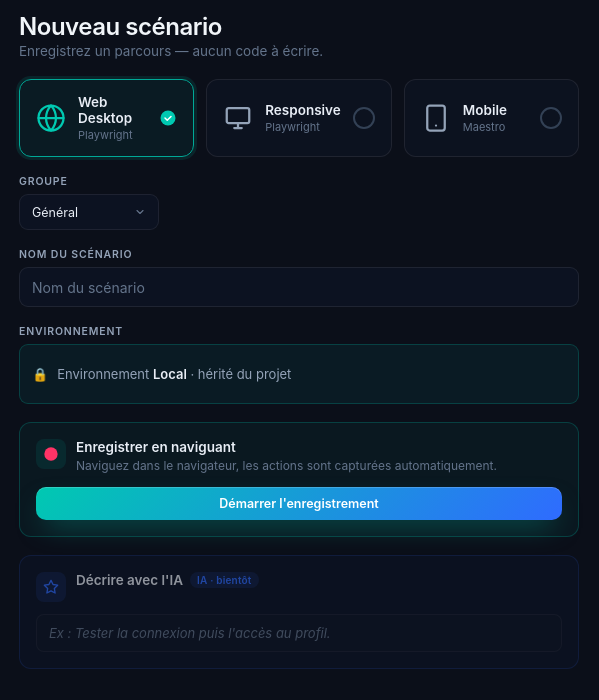
Test case: NewScenario › startRecording échoue → message d'erreur affiché, bouton réutilisable
This screenshot has width=599, height=700.
Type "Parcours" into the field with placeholder "Nom du scénario" at point(299, 287), box [19, 267, 579, 307]
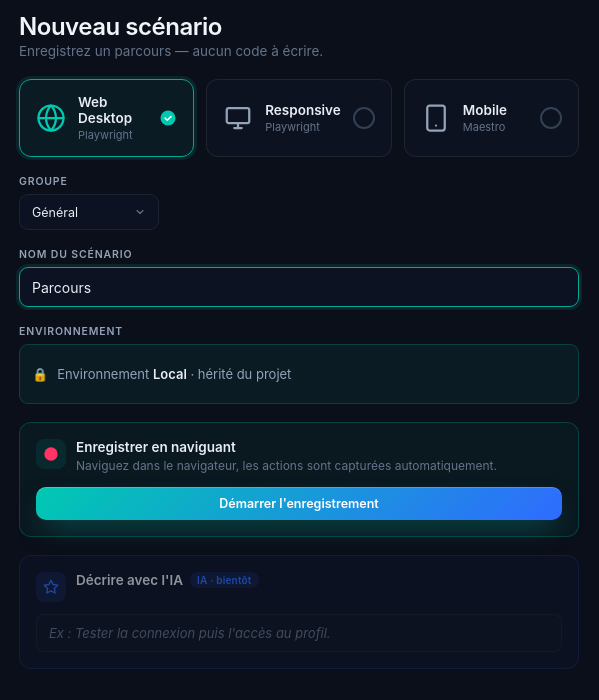
Click the button "Démarrer l'enregistrement" at point(299, 504), box [36, 487, 562, 520]
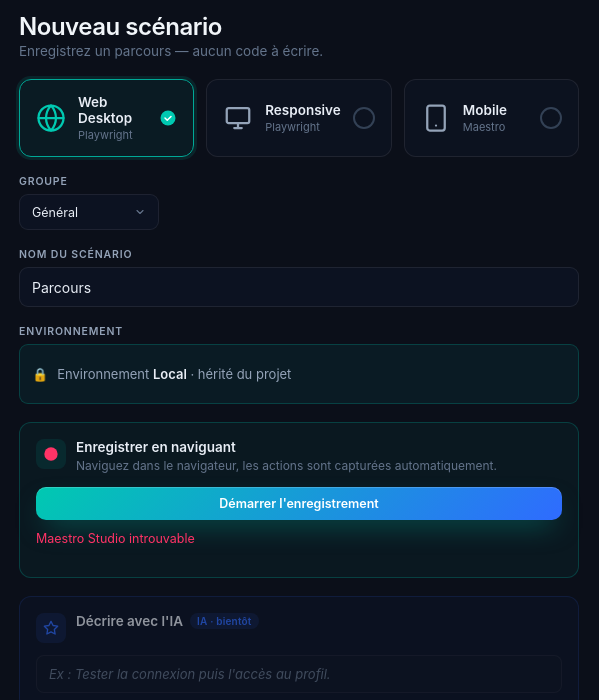
Check: the text "Maestro Studio introuvable" is shown, box [36, 531, 195, 546]
